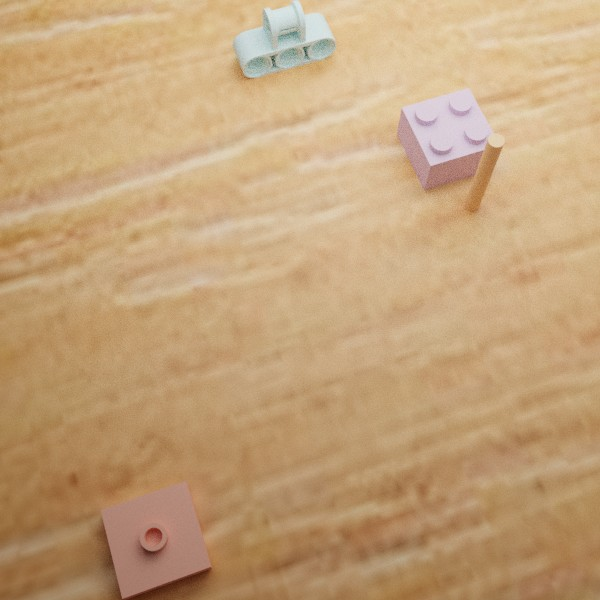lego: (100, 480, 212, 600), (396, 88, 499, 190), (232, 0, 336, 78), (464, 133, 504, 211)
